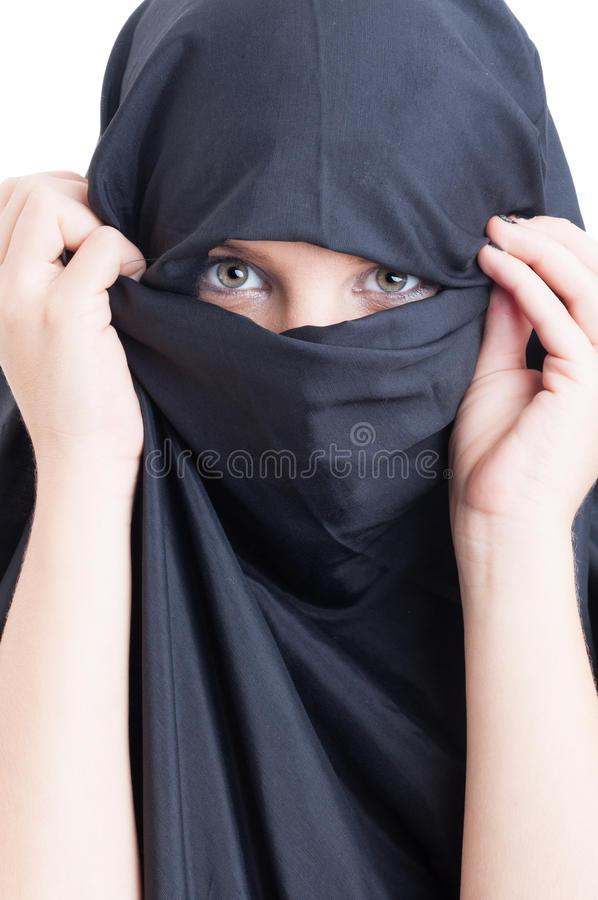No Mask: (33, 10, 596, 630)
